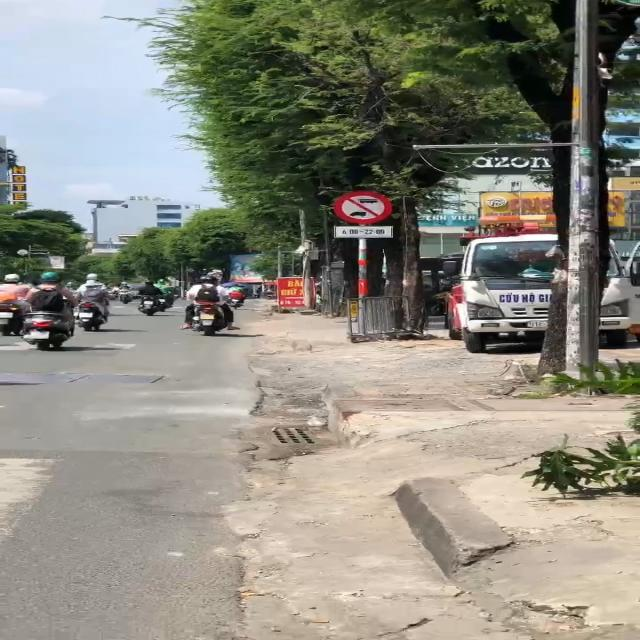Bien bao cam xe oto khach va xe oto tai: (331, 191, 396, 226)
